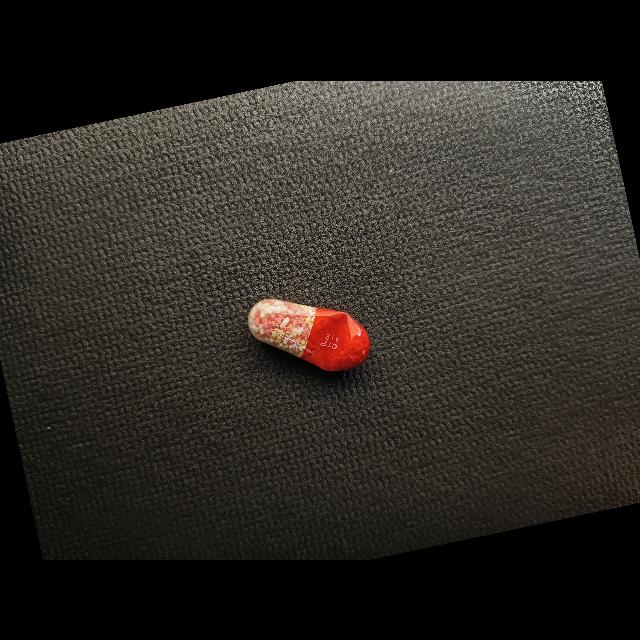Defective Capsule: (247, 298, 370, 371)
